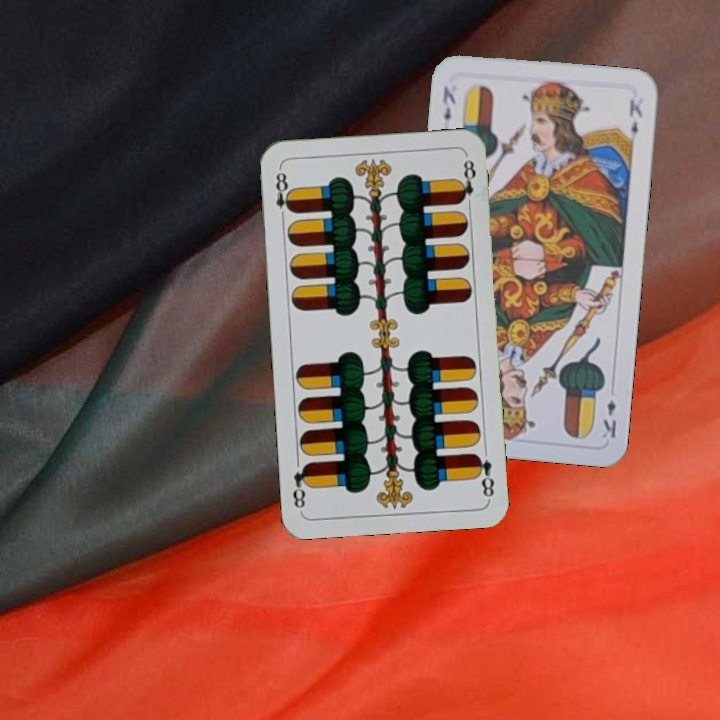E8: (470, 442, 497, 501), (272, 165, 296, 224)
EK: (598, 396, 619, 441), (438, 82, 458, 124)
